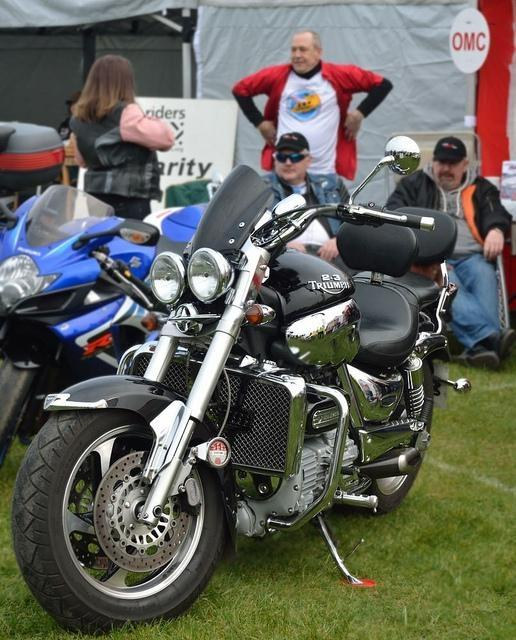motorcycle: (12, 140, 454, 631), (3, 194, 201, 473)
